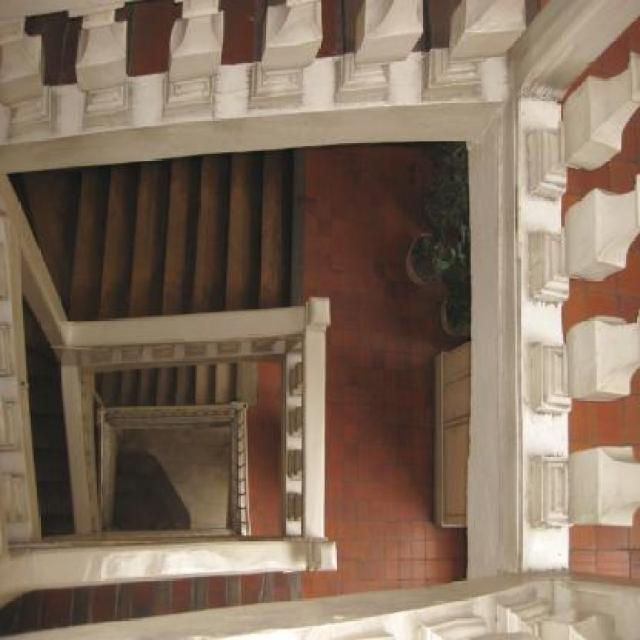stair: (2, 37, 340, 380)
